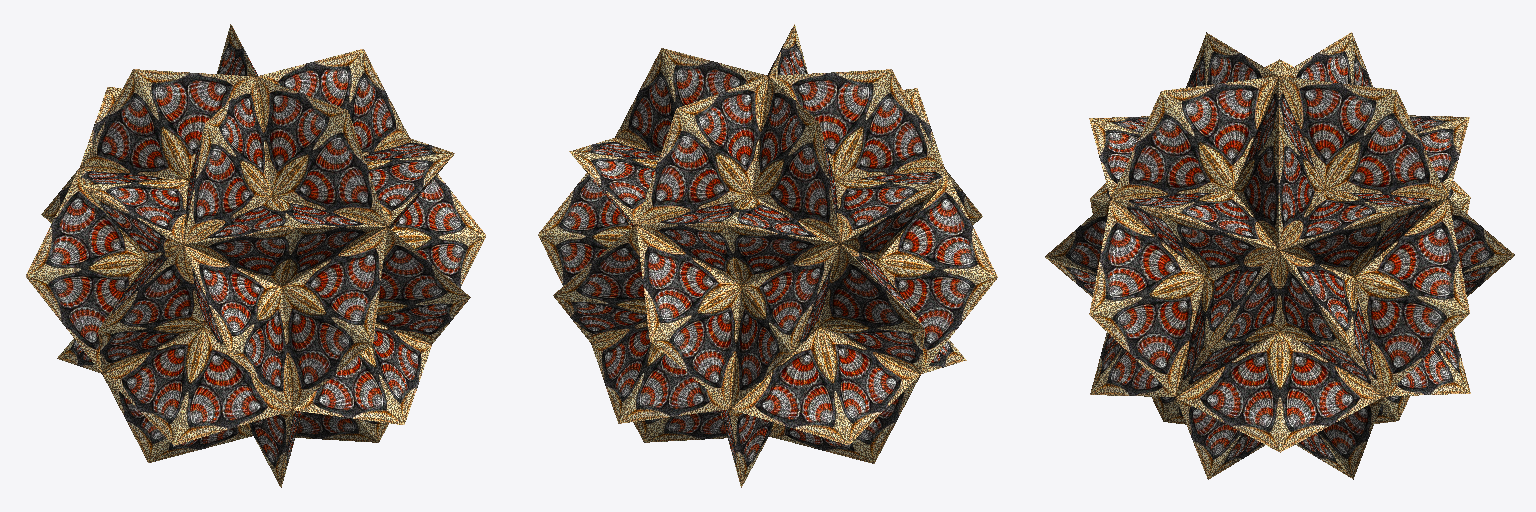
The picture shows the model from 3 angles: view 1: azimuth 30°, elevation 25°; view 2: azimuth 150°, elevation 25°; view 3: azimuth 270°, elevation 25°; orthographic projection.
Size of the model in its own units: 3.62 by 3.25 by 3.8.
1 materials, 1 textured.